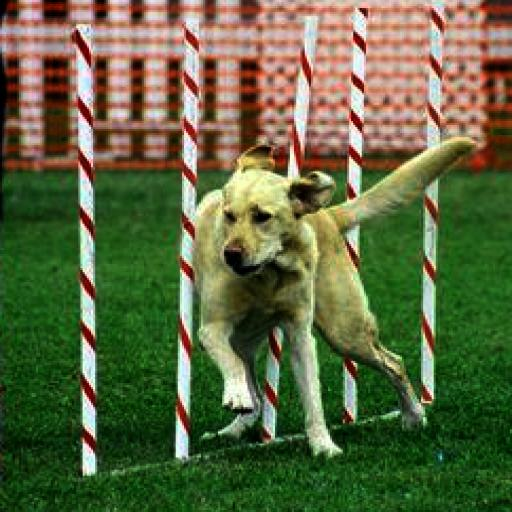dog_face: (214, 147, 324, 274)
